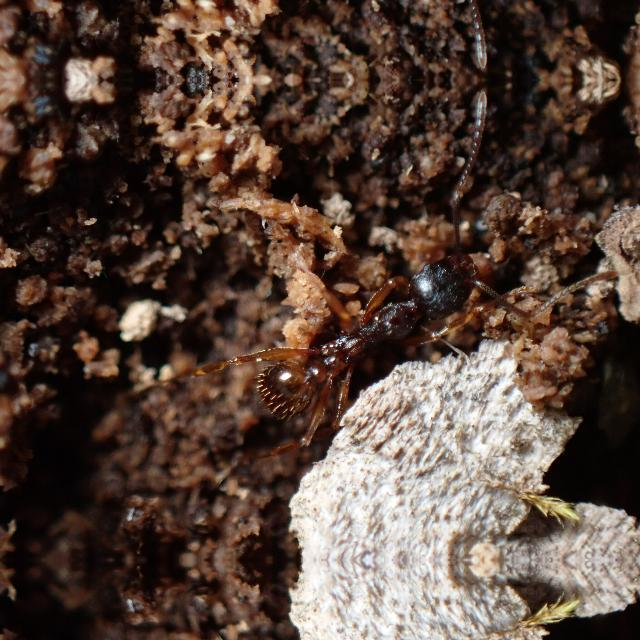Apheanogaster: (208, 219, 524, 446)
